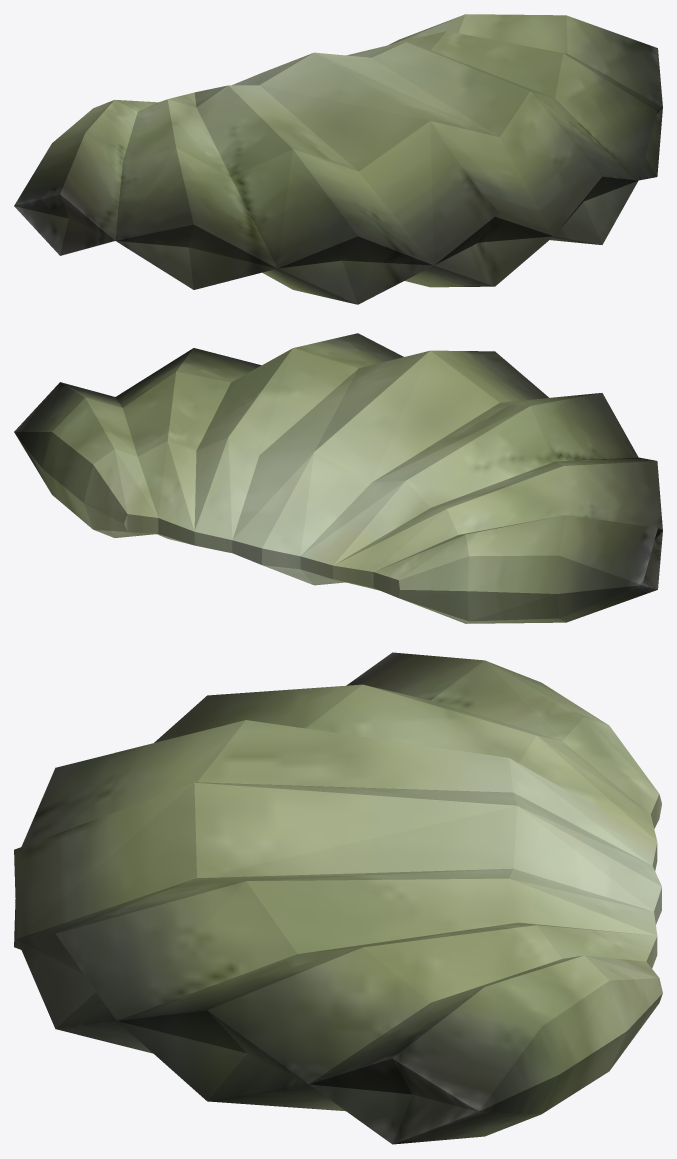
File: ITMI_SHELL_01.glb
3 renders of one model, top to bottom at view 1: azimuth 30°, elevation 25°; view 2: azimuth 150°, elevation 25°; view 3: azimuth 270°, elevation 25°, orthographic. The views are drawn at different scales.
Visible parts, largest first — view 1: ITMI_SHELL_01; view 2: ITMI_SHELL_01; view 3: ITMI_SHELL_01.
Boxes of the visible parts, bbox=[...] form: ITMI_SHELL_01: bbox=[14, 14, 662, 304]; ITMI_SHELL_01: bbox=[14, 333, 662, 623]; ITMI_SHELL_01: bbox=[14, 652, 662, 1144].
Bounding box in the file's own units: 0.2884 × 0.073 × 0.1855.
1 material, 1 textured.
